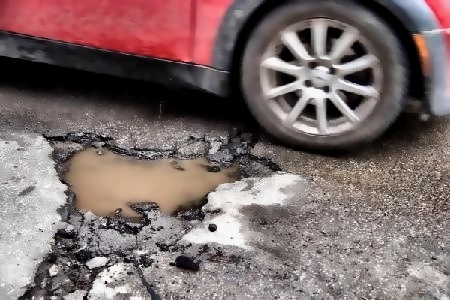pothole: (40, 129, 282, 223)
